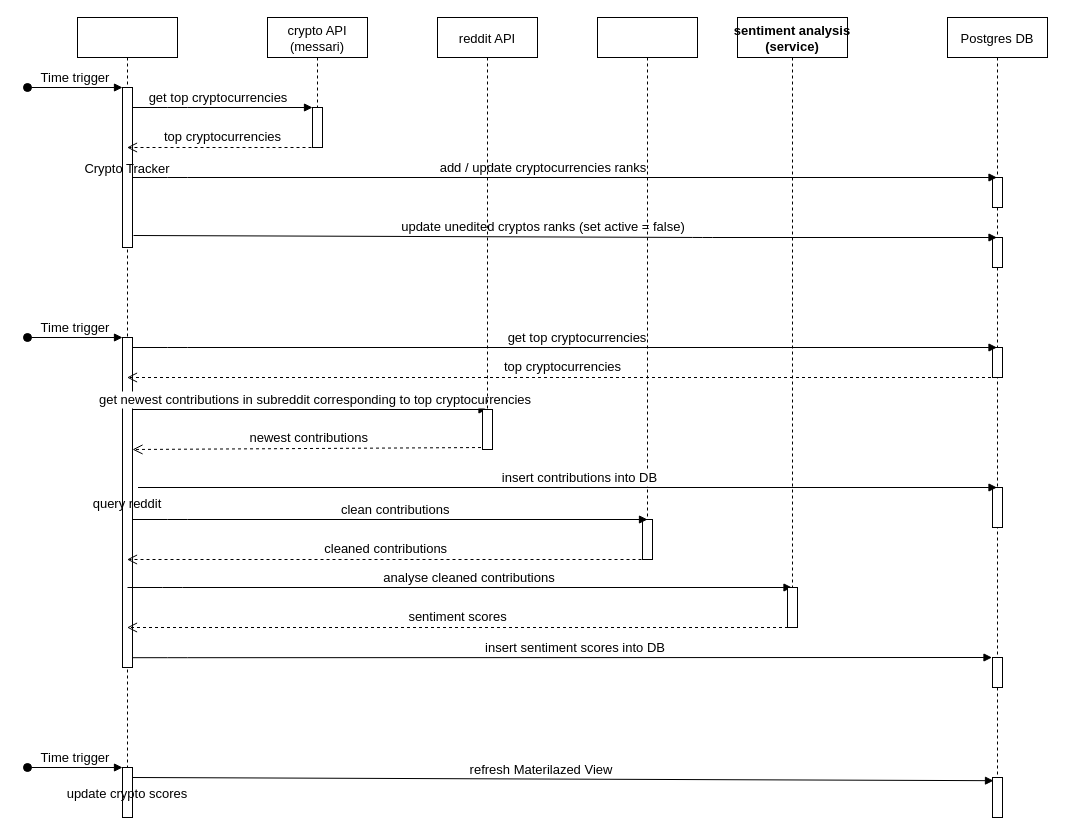
Some shapes in this 1065 by 835 pixel diagram are drawn without their labels. Here are the shapes that lost their labels. From the top down, the box of each, then its label:
(596, 16, 698, 558): data cleaning (service)
(76, 16, 178, 818): Cronjobs
